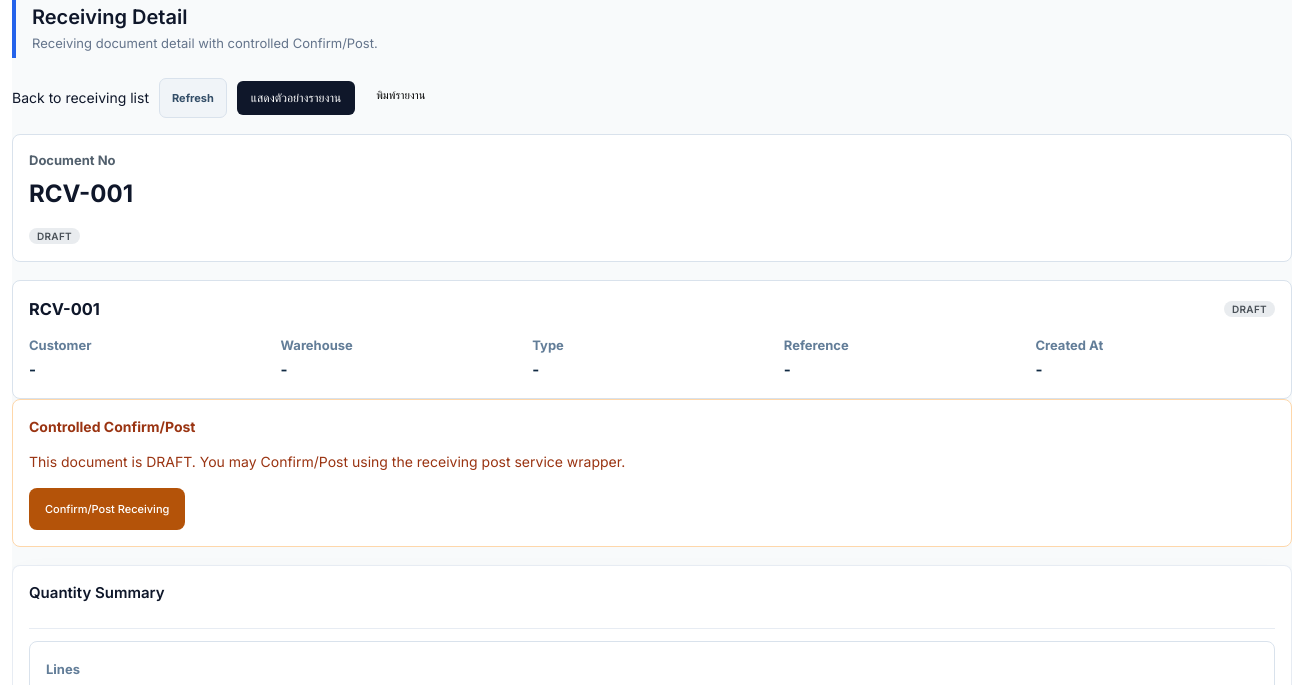
Sprint 13J-AM receiving validation and error handling › ReceivingDetailPage post handling › posts through service wrapper and shows success message
Step 1. Click the button "Confirm/Post Receiving" → coordinates (107, 509), box [29, 488, 185, 530]
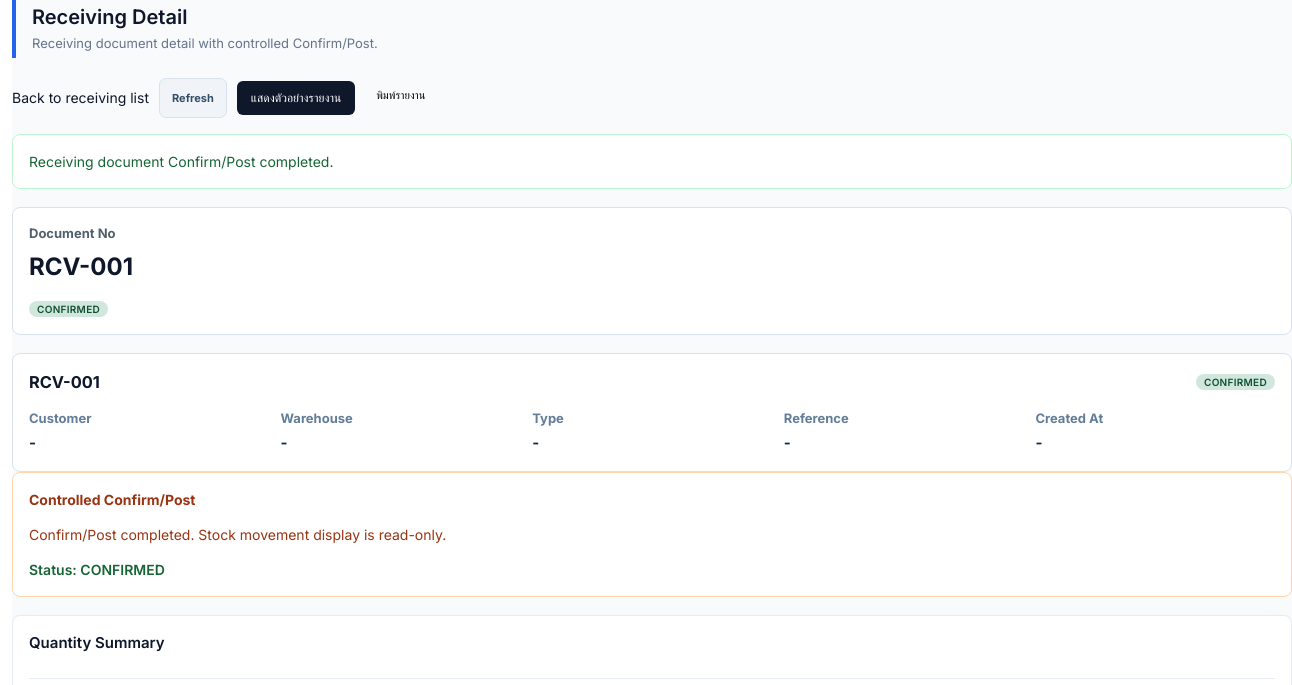
Now the text "Receiving document Confirm/Post completed." is shown, box [12, 134, 1291, 188]
